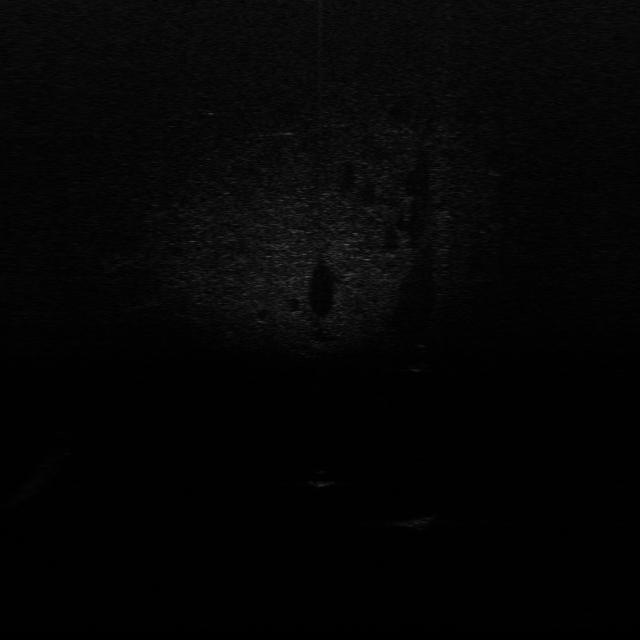ball: (299, 466, 337, 490)
square cage: (400, 510, 440, 531)
tyre: (403, 346, 433, 373)
